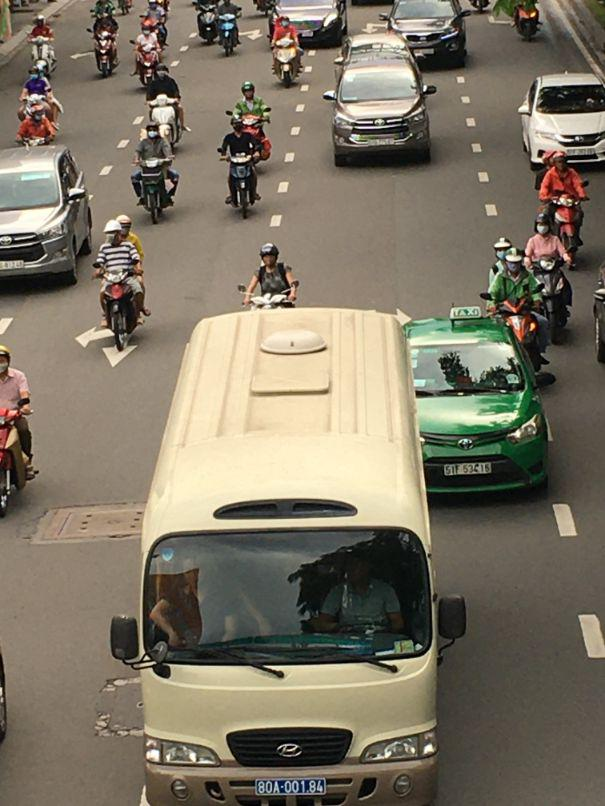bus: (130, 277, 448, 805)
car: (402, 311, 555, 499), (1, 143, 96, 296), (330, 55, 433, 171), (518, 71, 604, 173), (387, 0, 471, 70), (269, 0, 346, 52)
motorbike: (524, 246, 576, 341), (221, 126, 267, 220), (99, 267, 144, 355), (0, 392, 32, 514), (132, 153, 178, 224), (139, 99, 183, 158), (552, 198, 587, 270), (16, 96, 63, 148), (269, 37, 305, 87), (92, 18, 120, 79), (217, 1, 243, 56), (513, 1, 542, 42)
